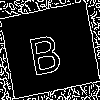B: (25, 25, 64, 77)
